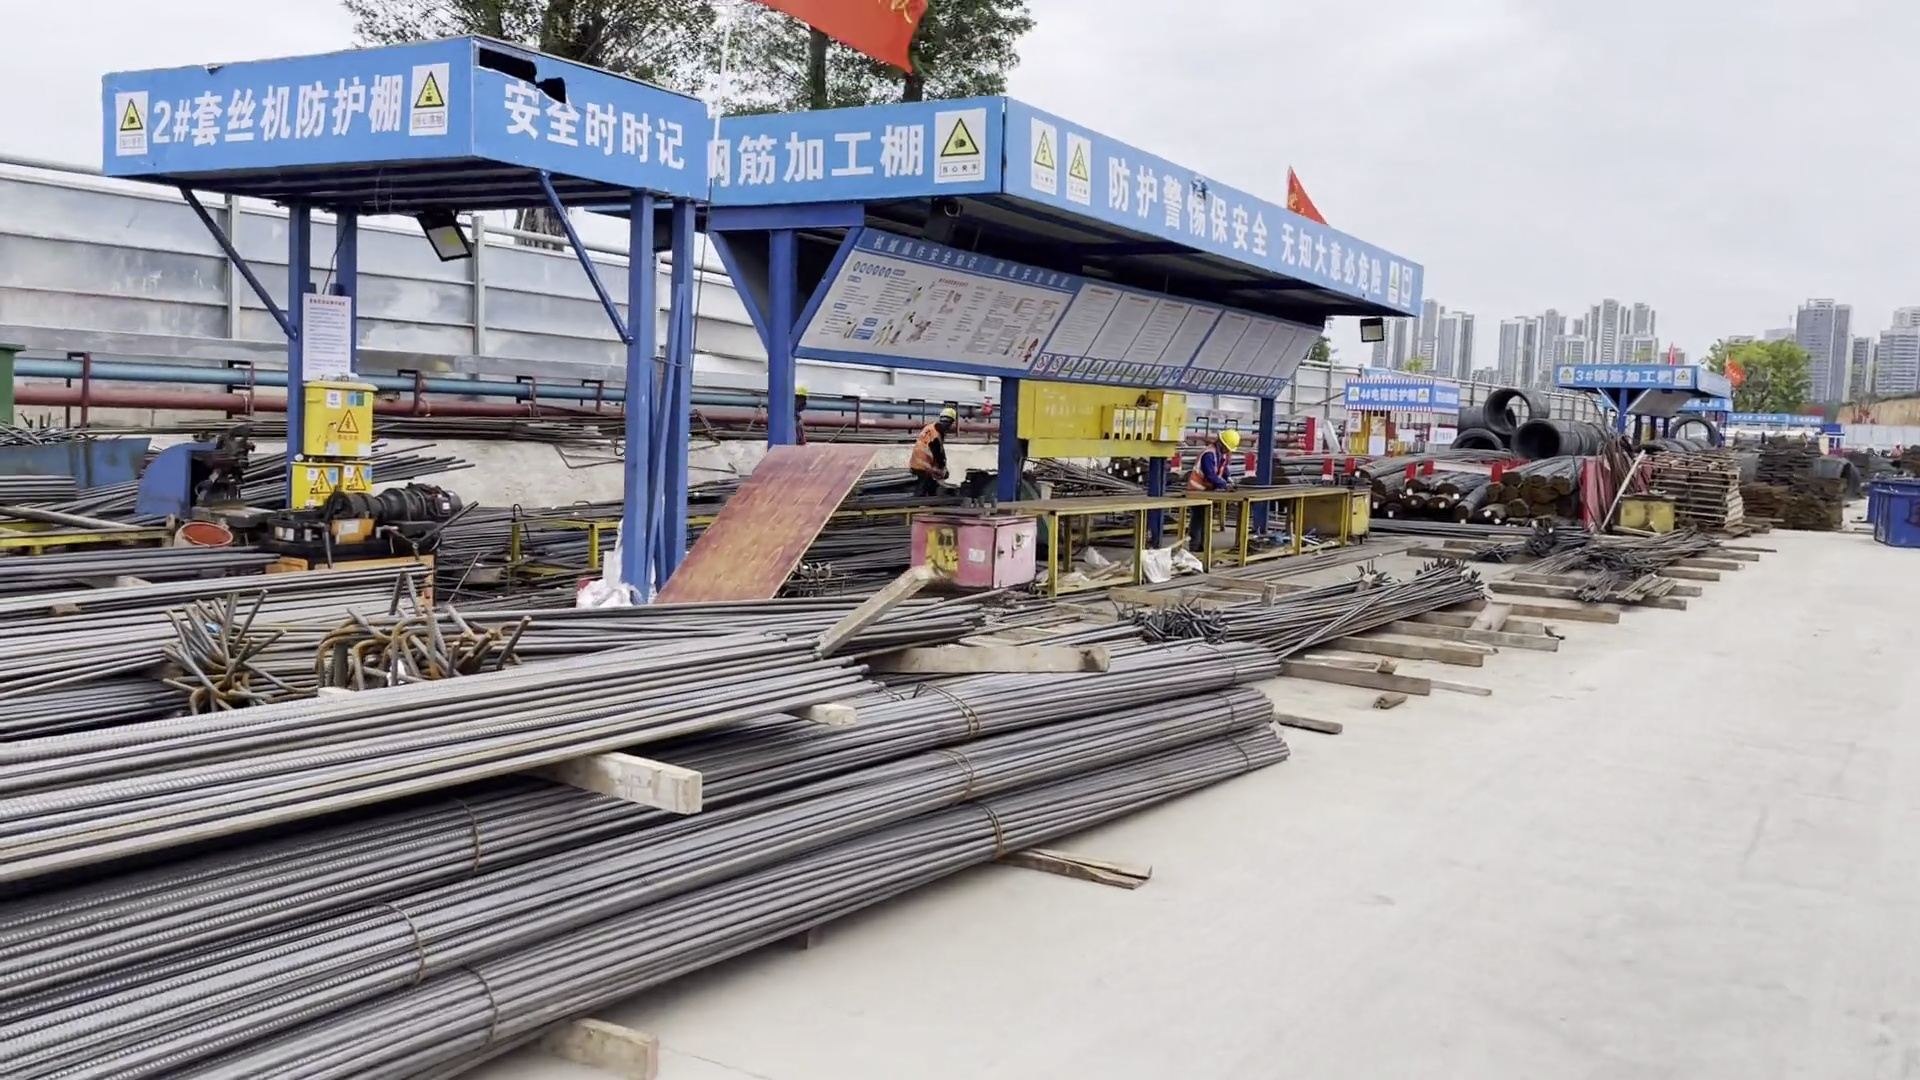ebox: (281, 365, 373, 511), (1149, 387, 1190, 448)
helmet: (1218, 431, 1239, 450), (938, 407, 954, 418)
hopper: (1860, 474, 1920, 549)
person: (906, 408, 966, 489), (1182, 430, 1240, 493)
rebar: (2, 627, 1319, 1080), (1, 615, 949, 863), (326, 585, 970, 675), (433, 470, 906, 553), (1192, 554, 1475, 658), (196, 423, 456, 504), (1352, 450, 1519, 479), (1502, 447, 1577, 484), (1524, 453, 1582, 487), (1375, 466, 1427, 492), (1554, 455, 1593, 489), (1409, 471, 1452, 494), (1439, 474, 1485, 495), (1453, 499, 1481, 519), (1424, 497, 1451, 517), (1385, 497, 1405, 524), (1476, 507, 1509, 521), (1531, 502, 1560, 517), (1405, 495, 1424, 514), (1480, 484, 1500, 501), (1368, 495, 1384, 516), (1504, 502, 1529, 516)
slogan: (1107, 152, 1385, 297), (499, 79, 690, 172)
vest: (1186, 449, 1226, 490), (911, 423, 940, 476)
